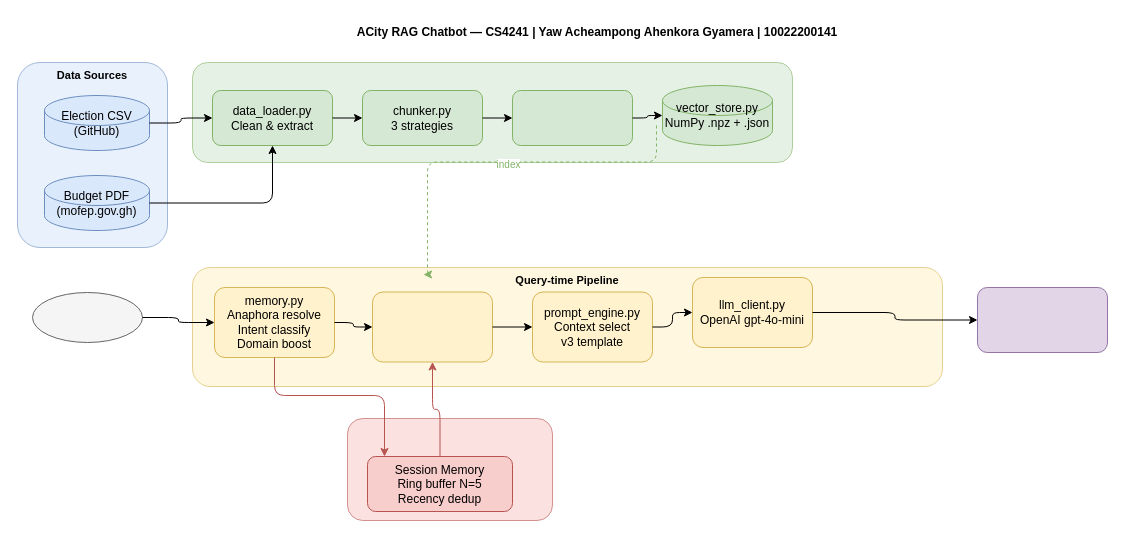
Image size: 1125x538. Some labels were removed from this diagram. Each missing label, with the box of its shape:
Build-time Pipeline: (192, 62, 792, 162)
embedder.py all-MiniLM-L6-v2 L2-normalise: (512, 90, 632, 146)
Novel Feature — PART G: (346, 418, 552, 520)
retriever.py Hybrid BM25 + vector: (372, 291, 492, 362)
Streamlit UI Chunks + Scores + Answer: (976, 286, 1108, 352)
User Query: (32, 292, 142, 342)
